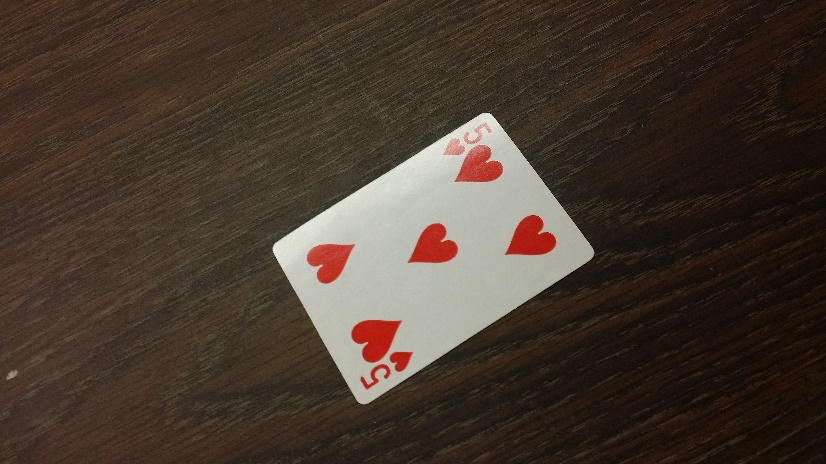H5: (358, 350, 412, 390), (444, 121, 492, 157)
